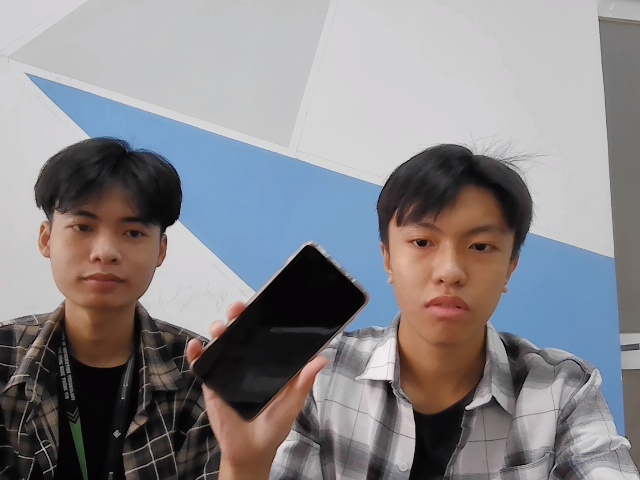human: (377, 139, 521, 342), (38, 132, 183, 315)
phone: (196, 247, 372, 419)
